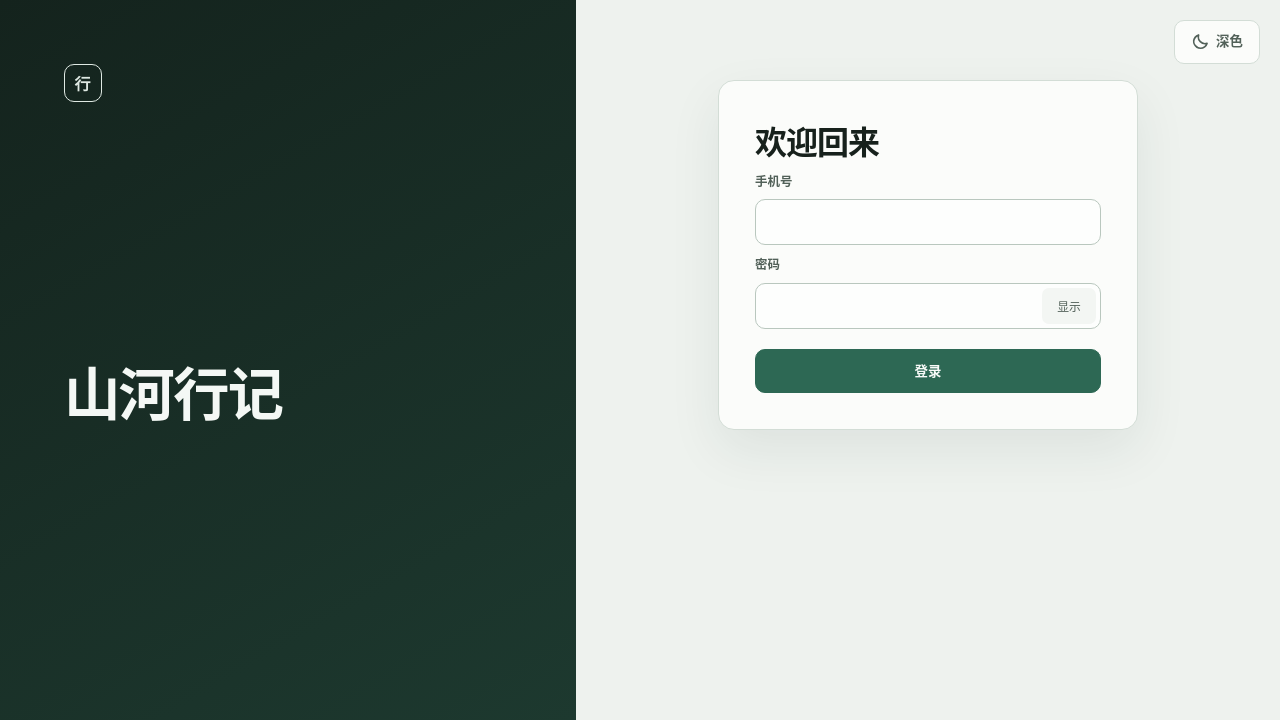
LoginPage › 把接口错误作为可访问提示显示
Type "13800138000" into the field labelled "手机号" at (928, 222), box [755,199,1101,245]
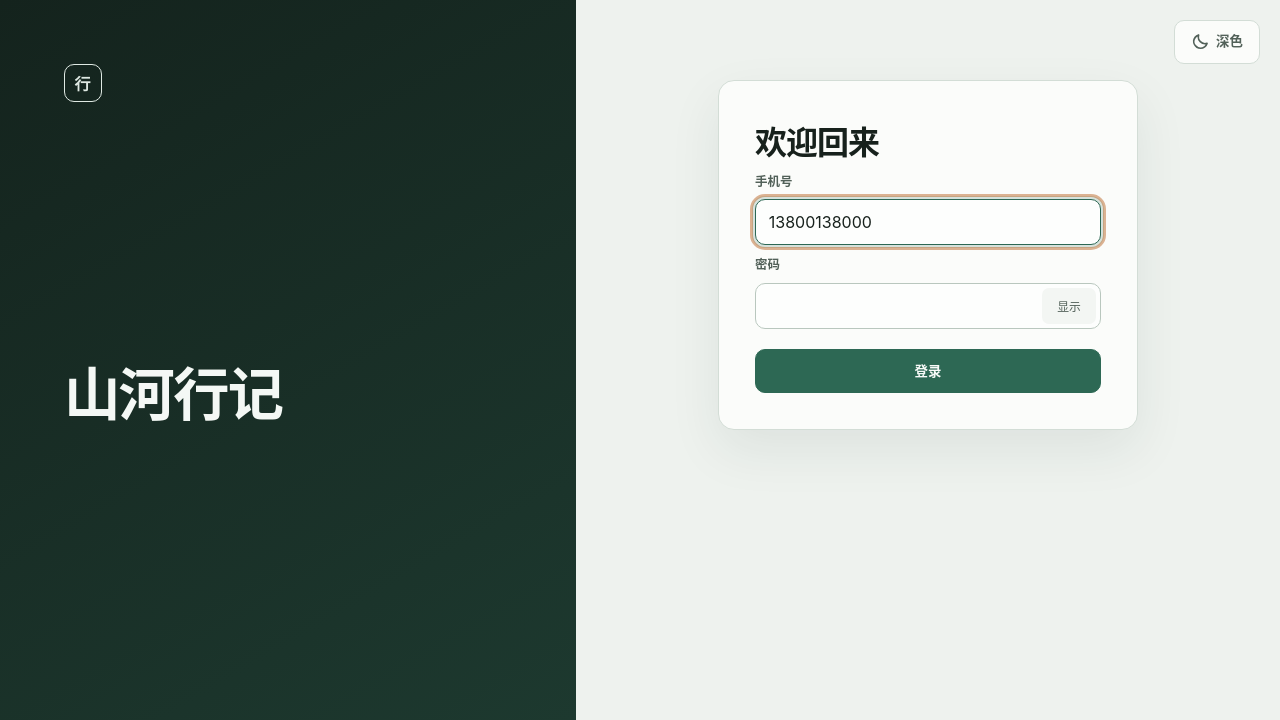
Type "wrong-password" into the password field labelled "密码" at (928, 306), box [755,283,1101,329]
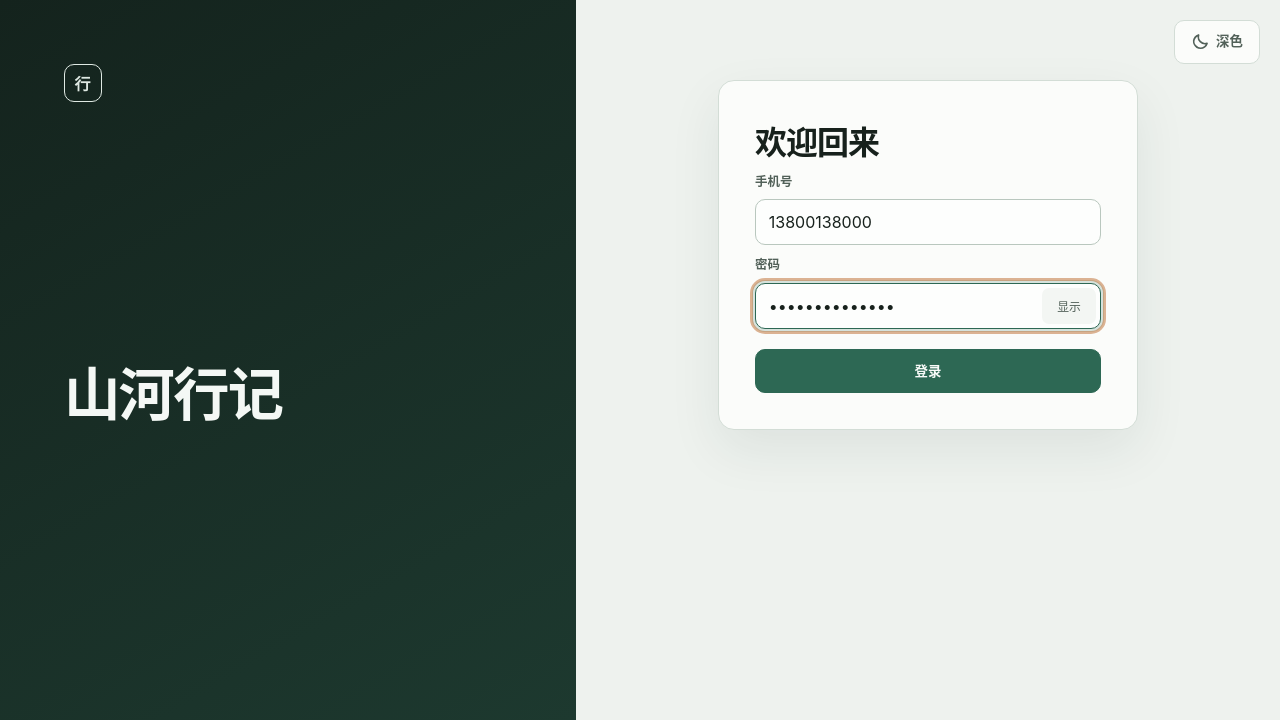
Click the button "登录" at (928, 371), box [755,349,1101,393]
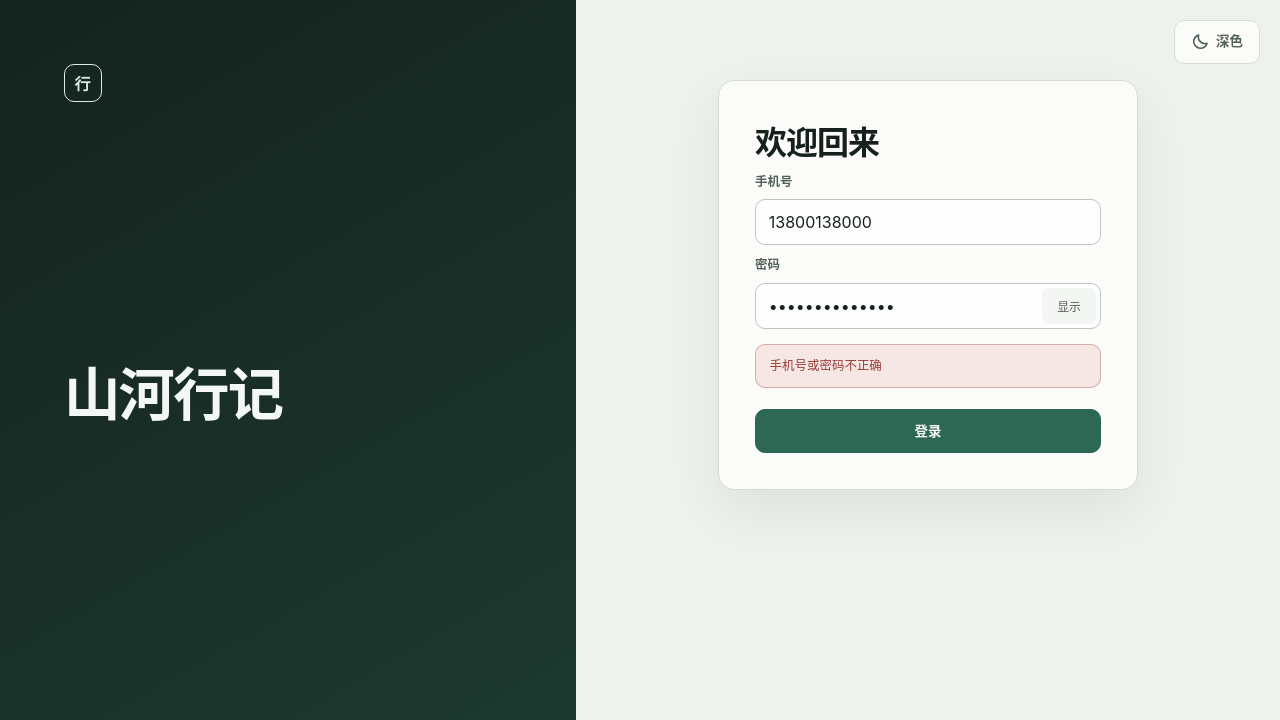
Check: the message reads "手机号或密码不正确", box [770,358,882,373]
